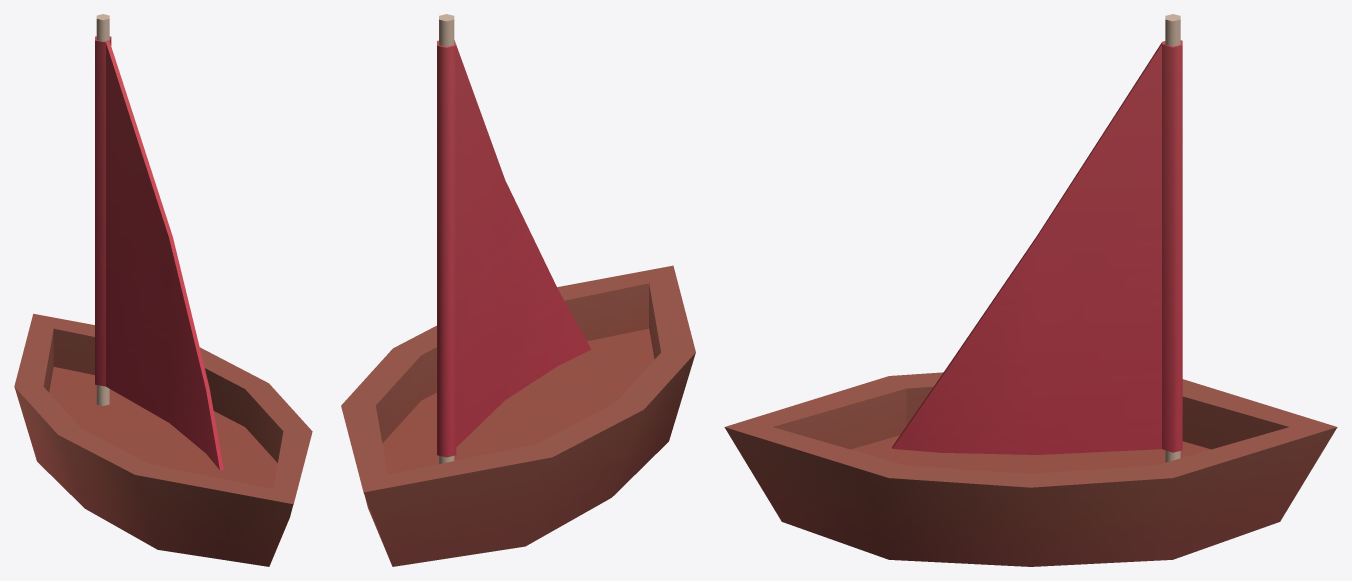
Rendered from SM_Boat_01.fbx.
The picture shows the model from 3 angles, left to right: view 1: azimuth 30°, elevation 25°; view 2: azimuth 150°, elevation 25°; view 3: azimuth 270°, elevation 25°; orthographic projection. The views are drawn at different scales.
Visible parts, largest first — view 1: SM_Boat_01; view 2: SM_Boat_01; view 3: SM_Boat_01.
Part boxes in pixels (box(x1,y1,x2,y2)): SM_Boat_01: box(14, 14, 312, 566); SM_Boat_01: box(341, 14, 695, 566); SM_Boat_01: box(724, 14, 1337, 566).
Size of the model in its own units: 17.09 by 33.16 by 36.55.
